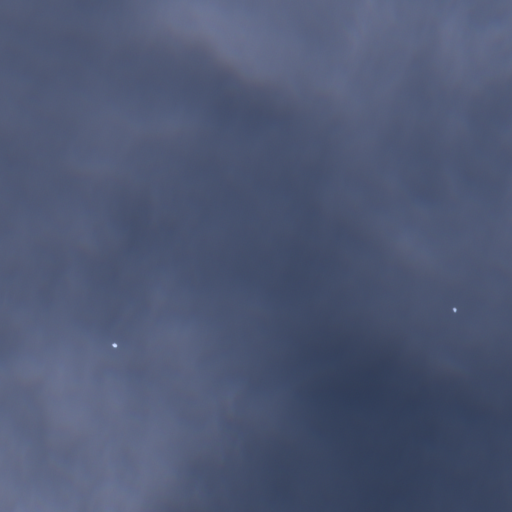Iceberg: (452, 307, 456, 312), (112, 343, 117, 347)
